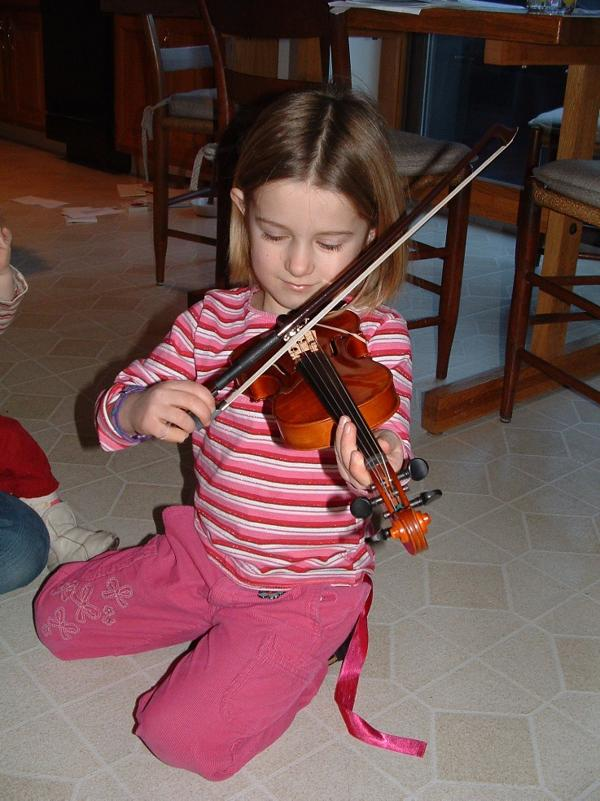person: (34, 79, 414, 778)
